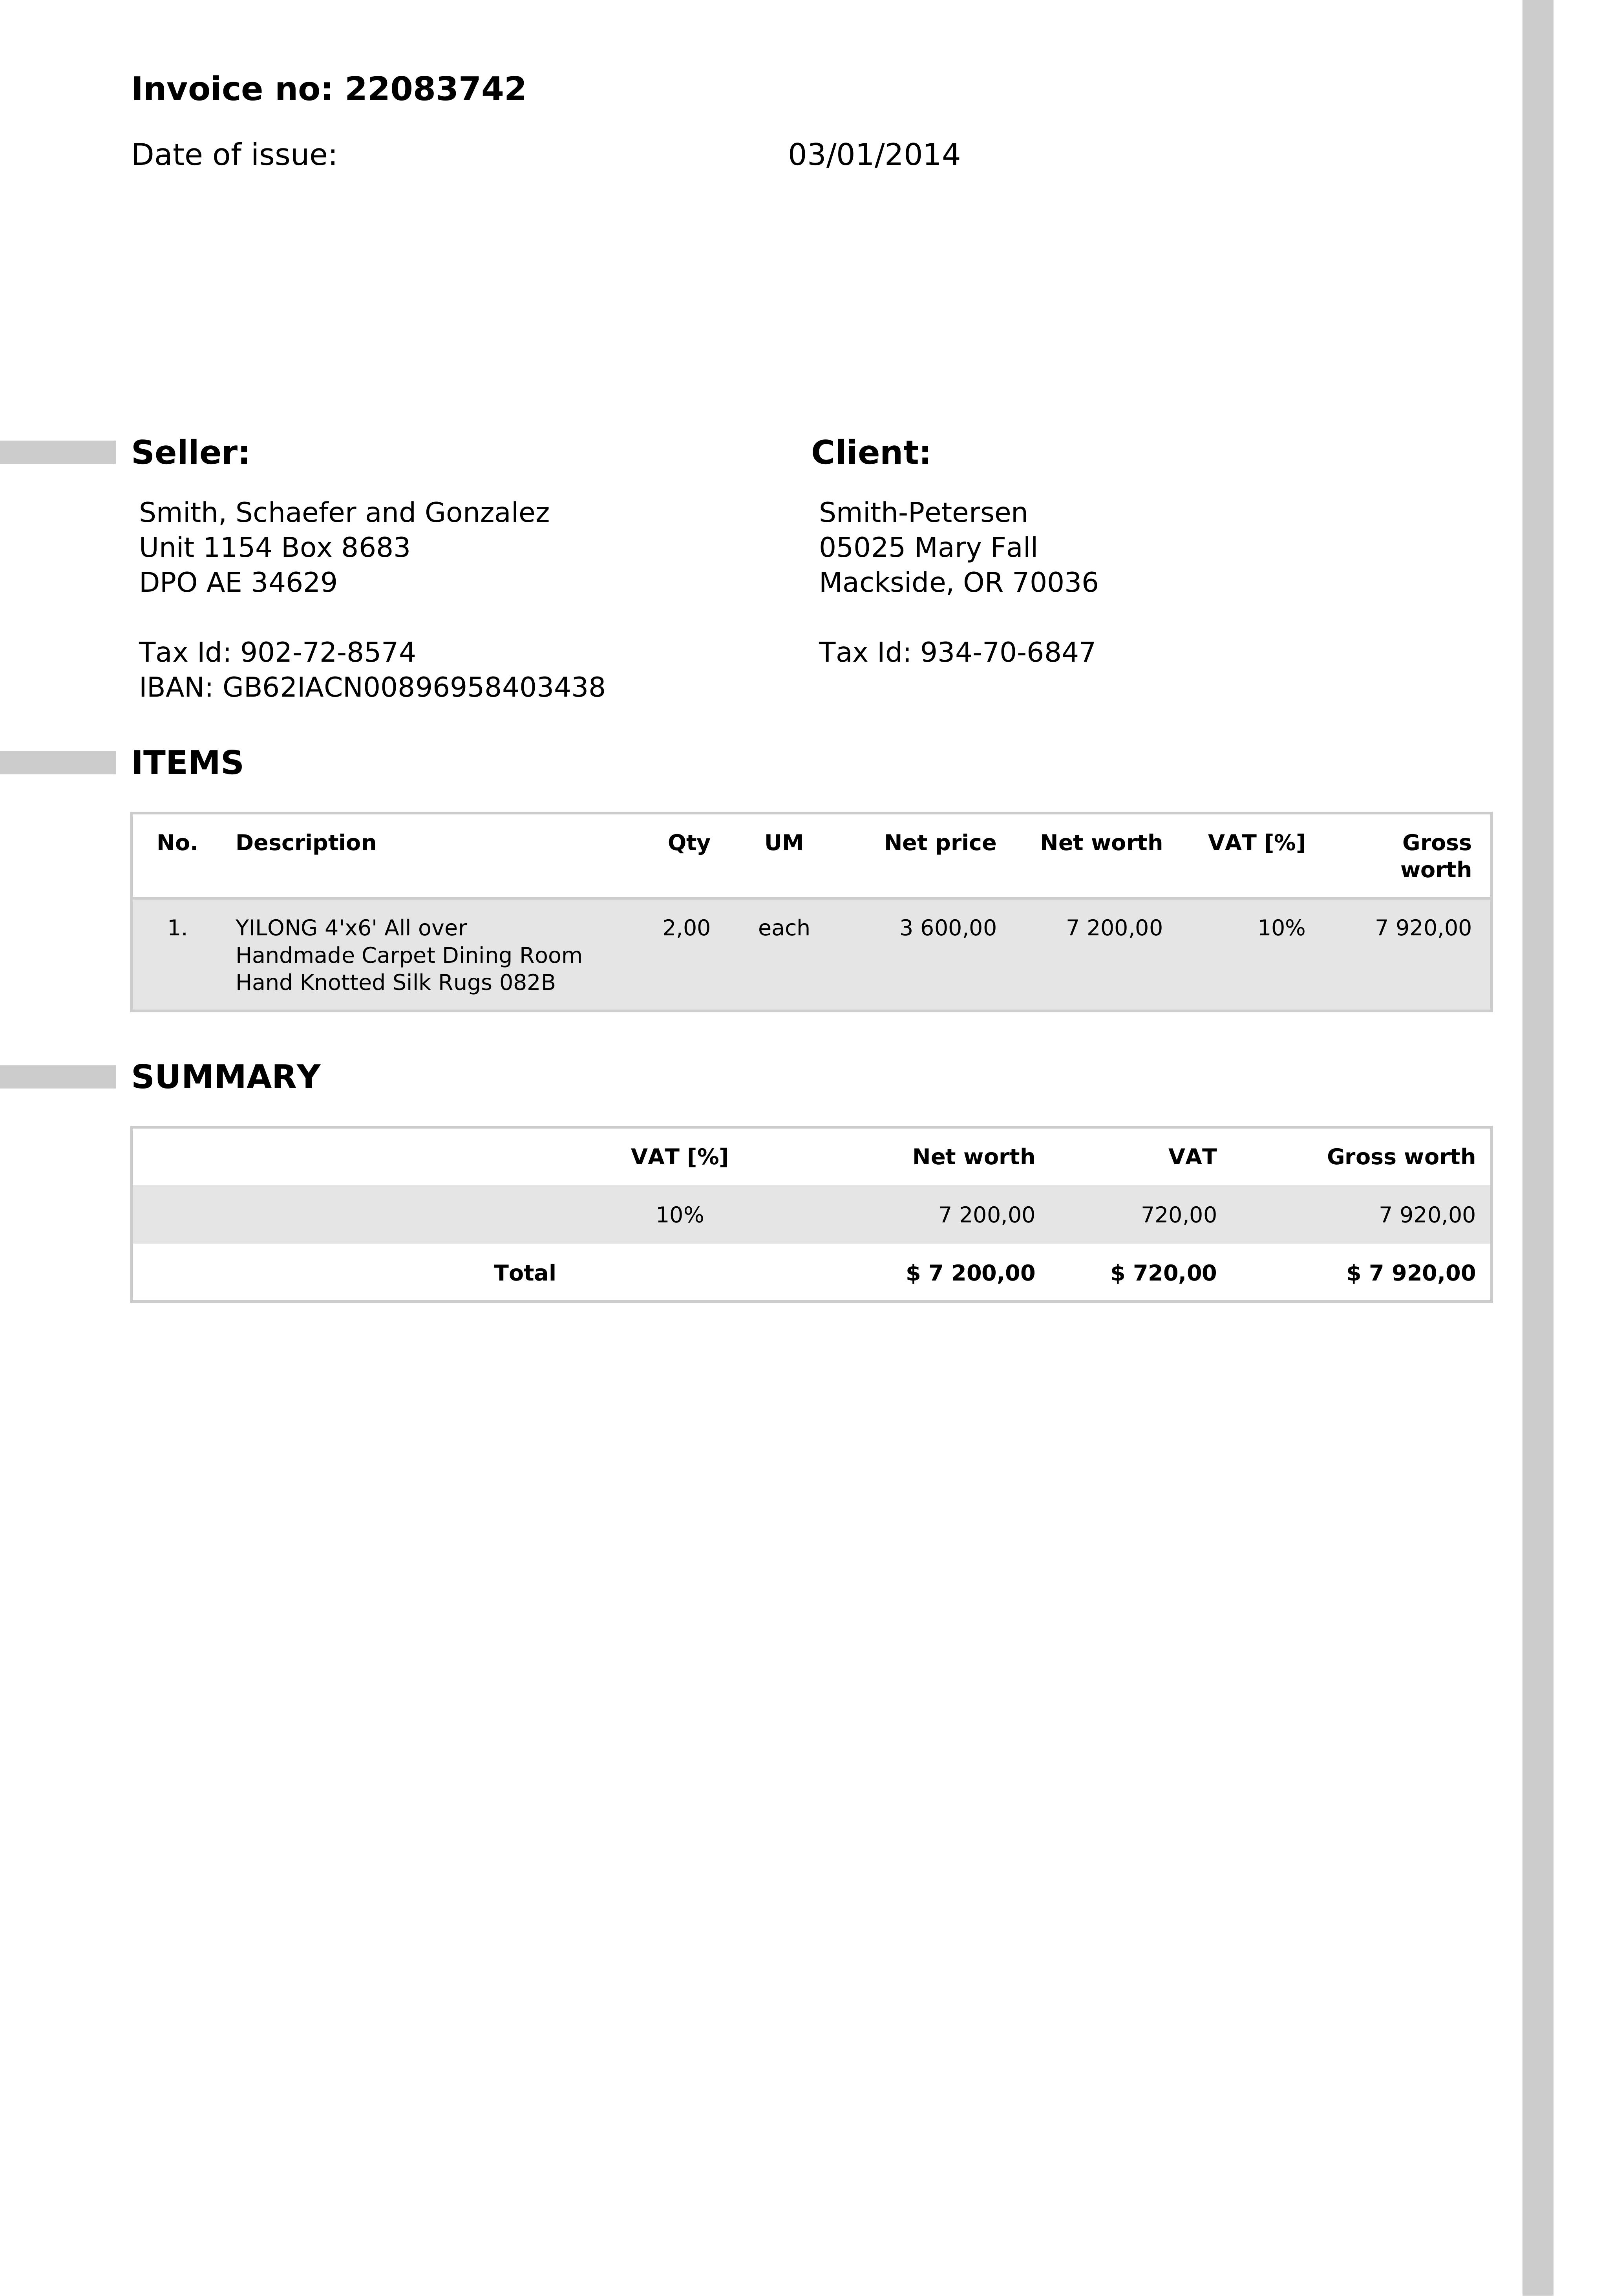column: (214, 812, 590, 1015), (1319, 1126, 1493, 1298), (1026, 815, 1175, 1010), (885, 1128, 1049, 1300), (871, 817, 1008, 1015), (1193, 815, 1330, 1008), (1094, 1126, 1245, 1300), (1354, 812, 1490, 1005), (620, 1124, 750, 1300), (472, 1131, 583, 1298), (743, 812, 829, 1014), (650, 815, 729, 1010)
